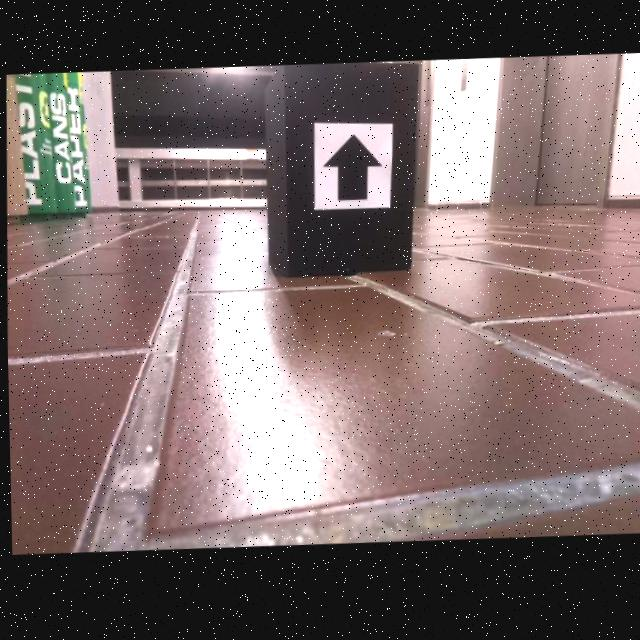UP: (321, 137, 382, 205)
